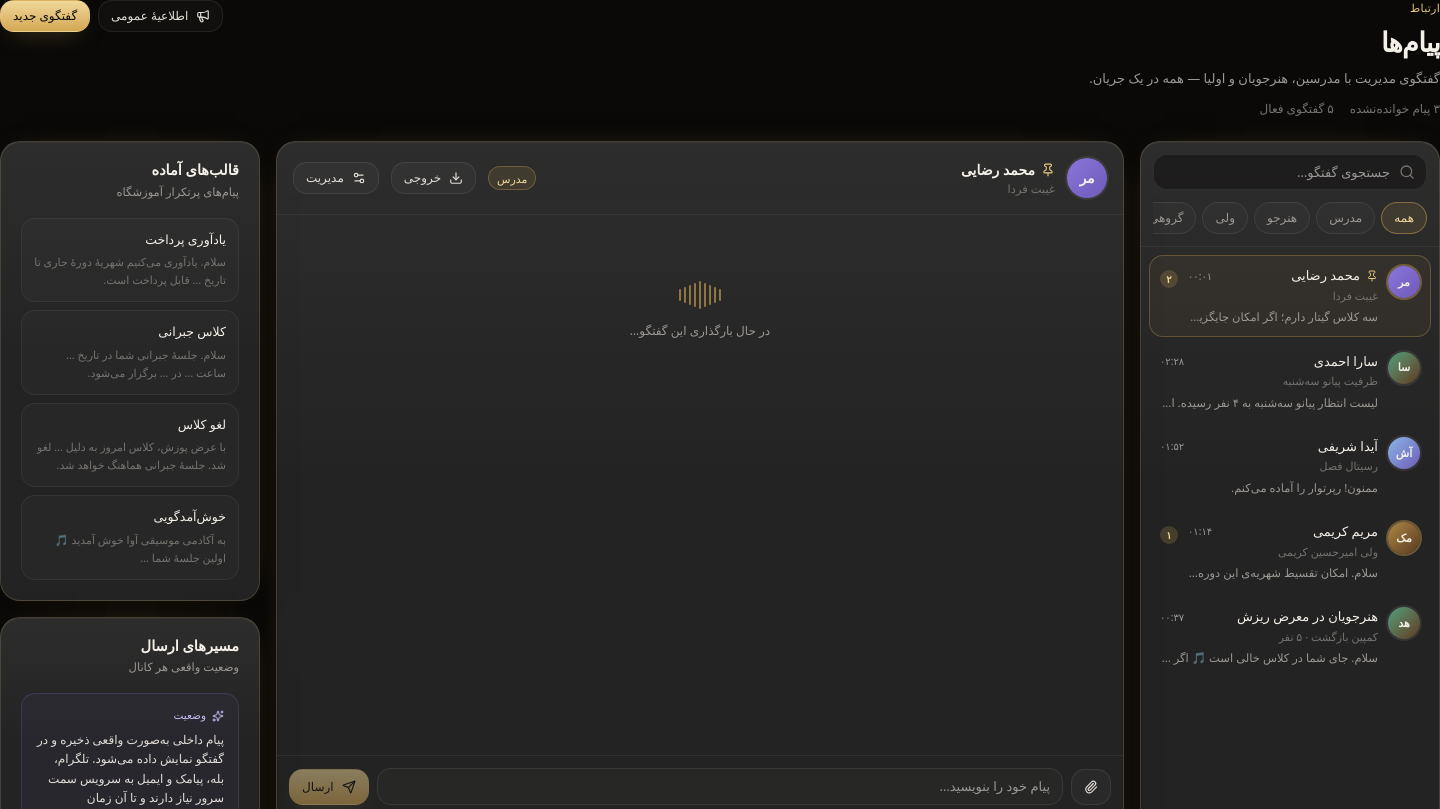
it: rename and topic › reports a refused write in the repository's own words, with no success
Click the 2nd text "محمد رضایی". click: click(1326, 276)
box: [1291,266,1360,286]
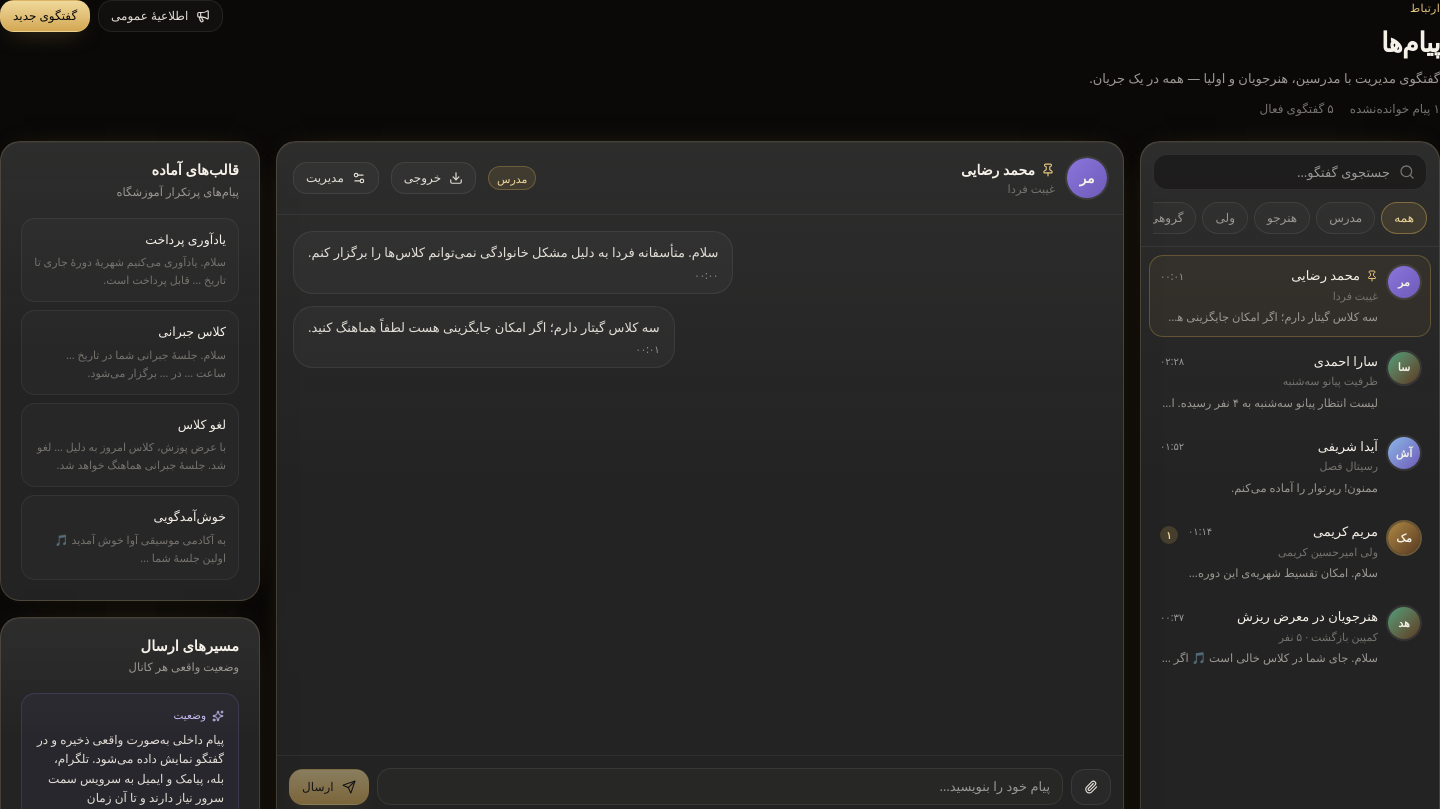
Click the button with aria-label "مدیریت گفتگو". click: click(336, 178)
box: [293,162,379,194]
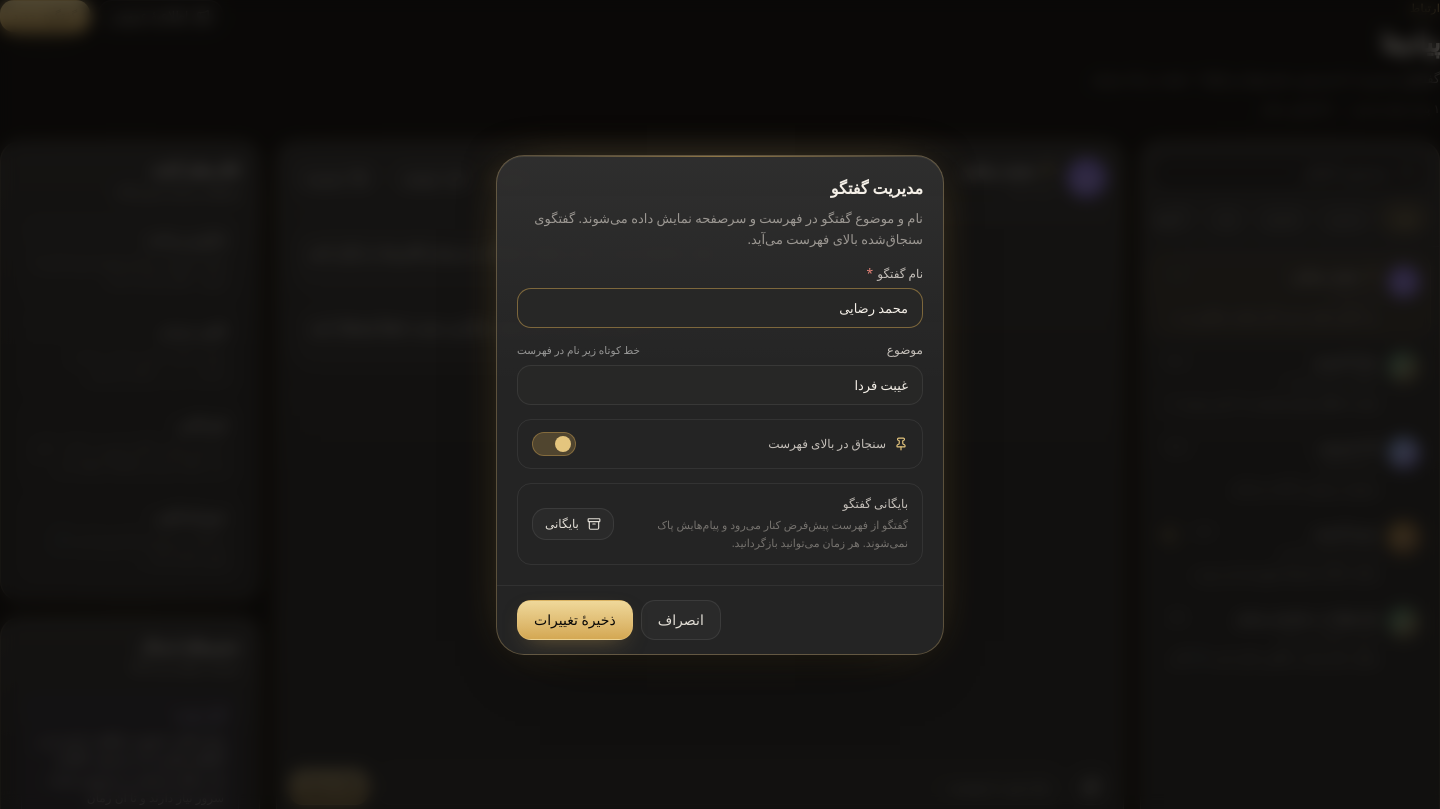
Replace the text in the field labelled "نام گفتگو*" with "نام تازه". click: (720, 308)
box: [517,288,923,328]
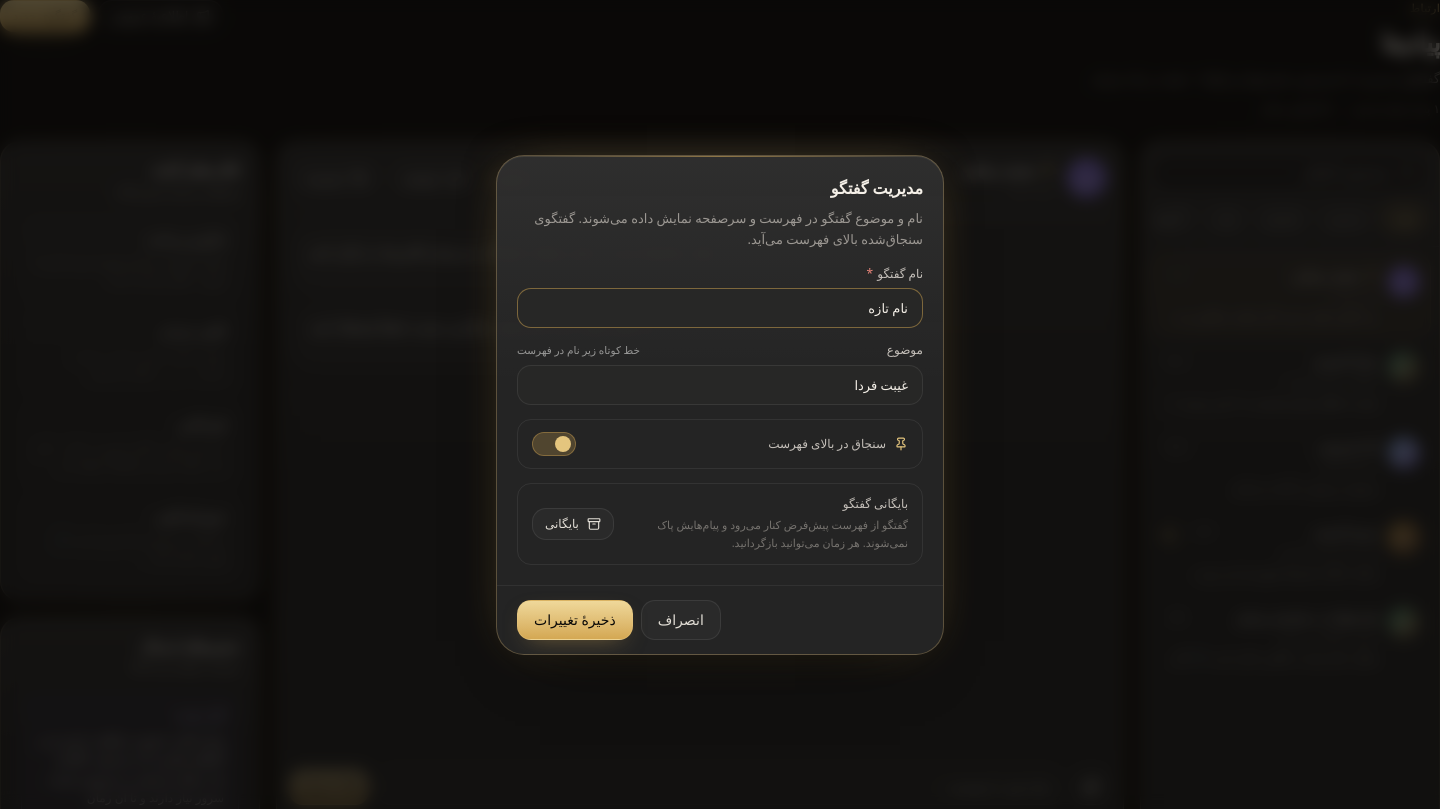
Click the button "ذخیرهٔ تغییرات". click: click(575, 620)
box: [517,600,633,640]
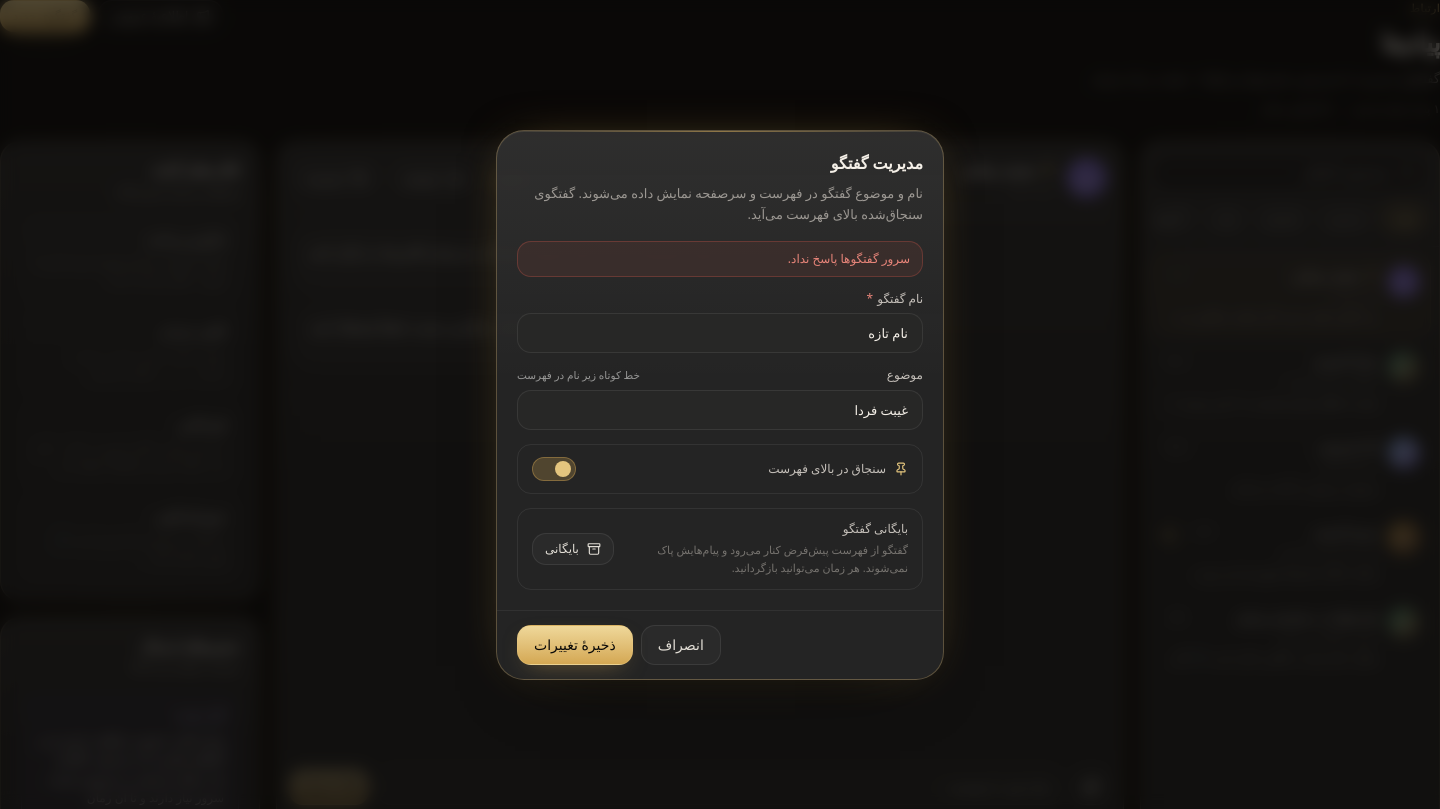
Check: the text "سرور گفتگوها پاسخ نداد." is shown, box [517,241,923,277]
